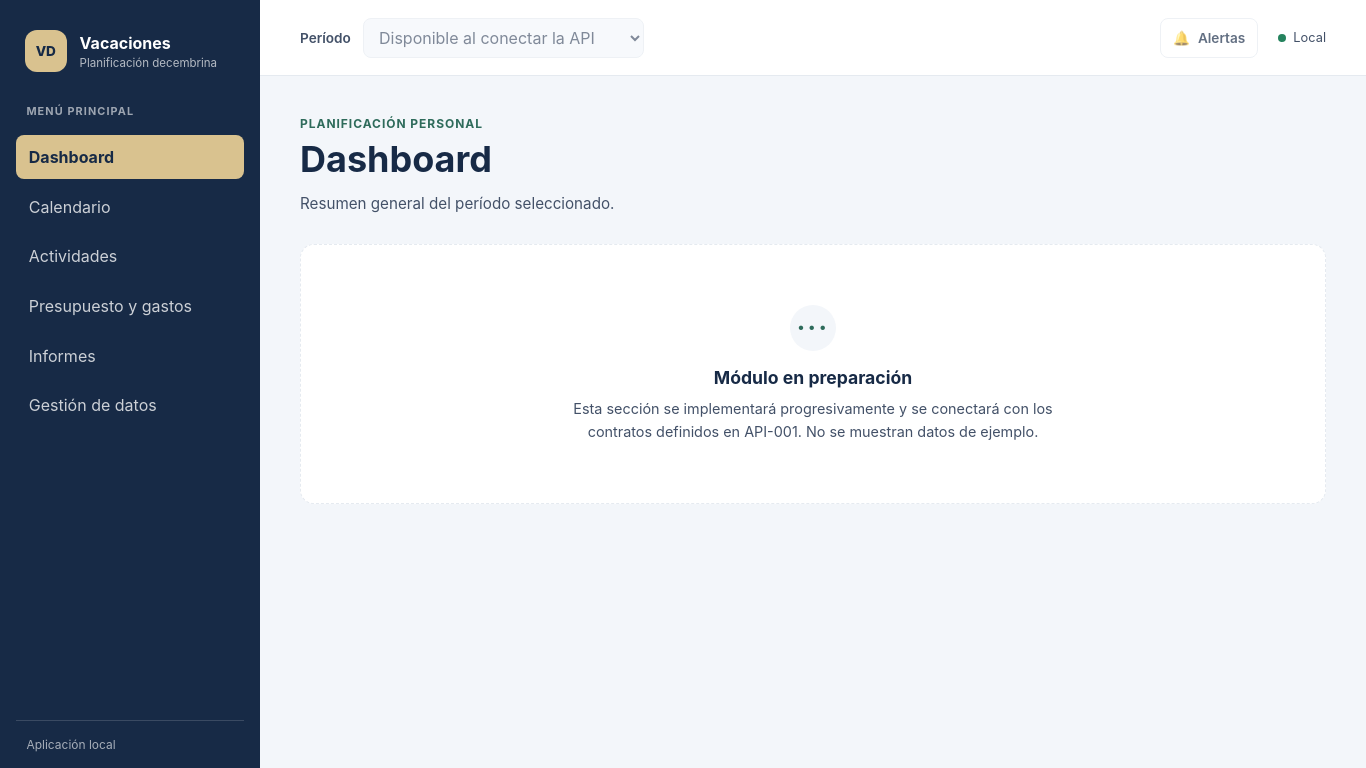
Test case: App › permite navegar entre las secciones definidas en UI-001
Click the button "Calendario": click(130, 207) x1=16 y1=185 x2=244 y2=229
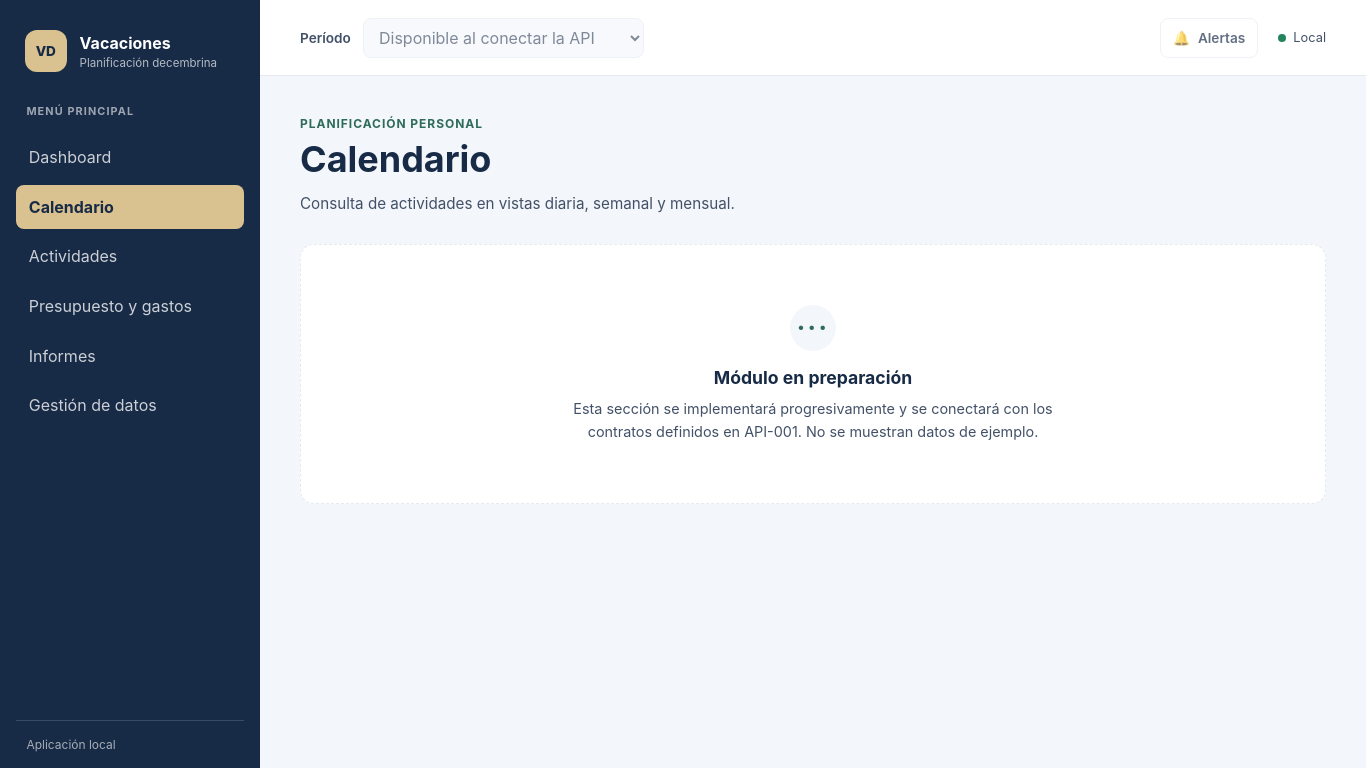
Result: the heading "Calendario" is shown at x1=300 y1=137 x2=491 y2=181
